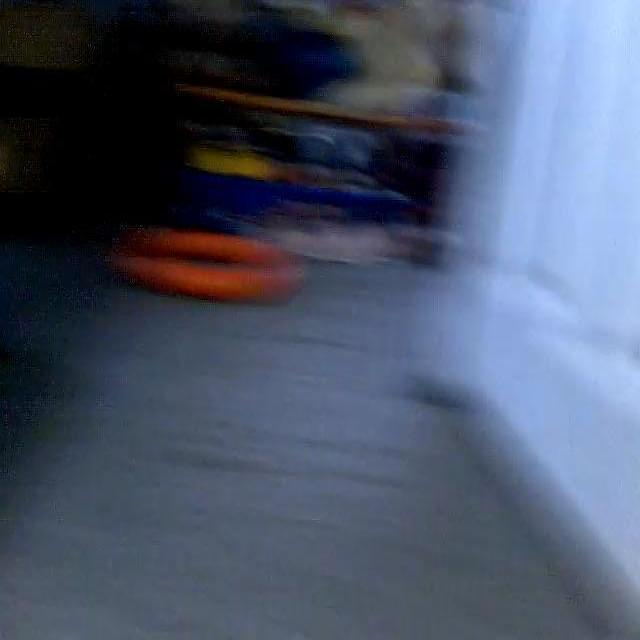note: (109, 221, 305, 311)
